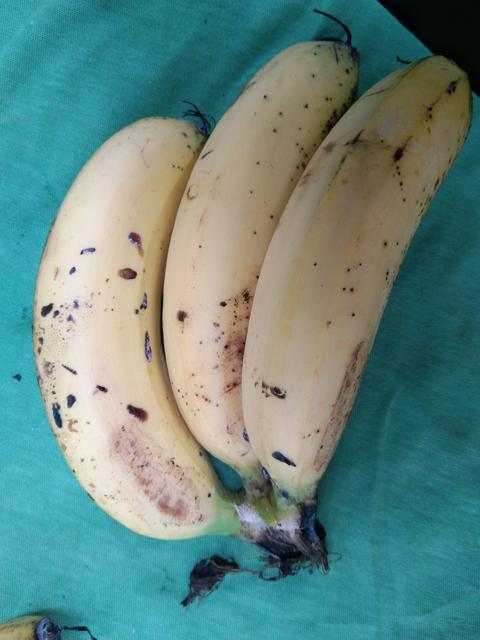ripe: (229, 29, 479, 501), (22, 97, 242, 551), (158, 21, 370, 479)
